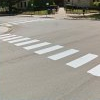crosswalk: (0, 34, 100, 76)
